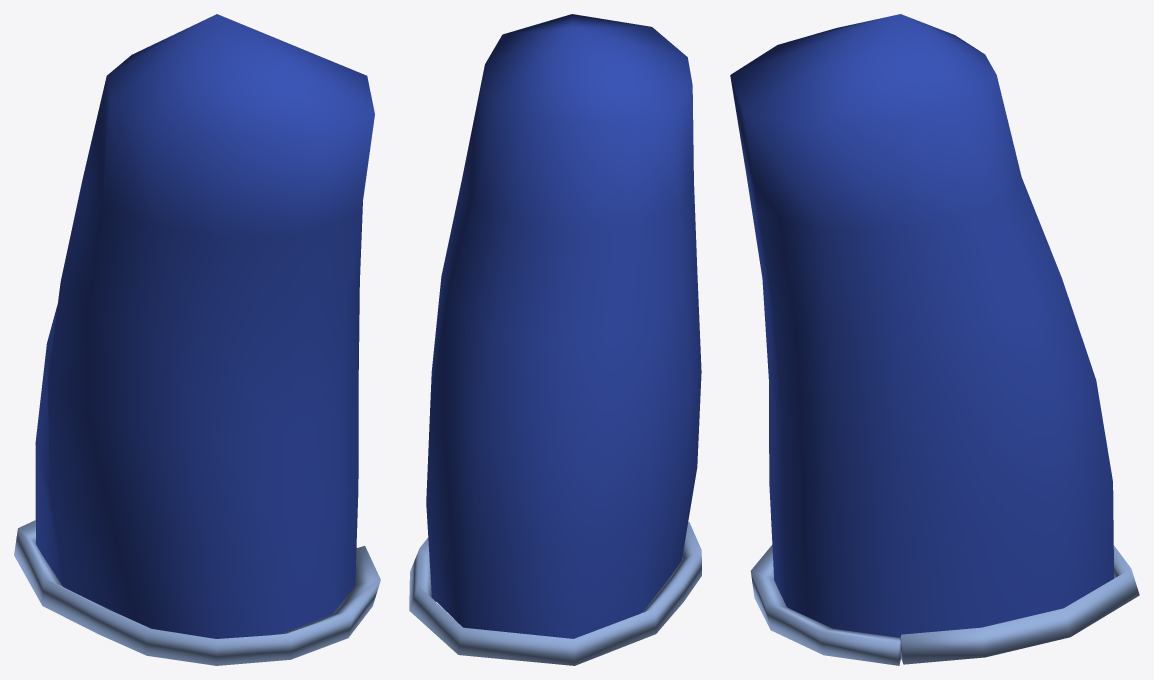
File: stardust_armor_boot.L.glb
3 views of the same model, side by side, from view 1: azimuth 30°, elevation 25°; view 2: azimuth 150°, elevation 25°; view 3: azimuth 270°, elevation 25° (orthographic). The views are drawn at different scales.
Parts seen in each view (by area): view 1: stardust_armor_boot.L; view 2: stardust_armor_boot.L; view 3: stardust_armor_boot.L.
Part boxes in pixels (<box>): stardust_armor_boot.L: <box>14,14,380,665</box>; stardust_armor_boot.L: <box>409,14,701,665</box>; stardust_armor_boot.L: <box>730,14,1139,665</box>.
Bounding box in the file's own units: 0.1461 × 0.2958 × 0.1877.
